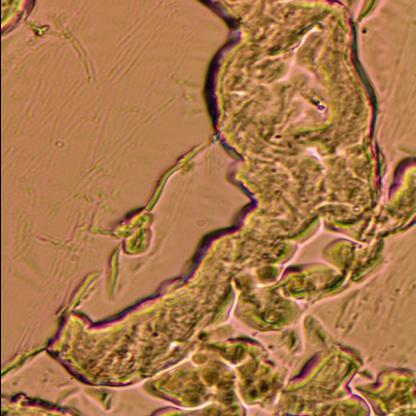Normal: (72, 0, 416, 394)
